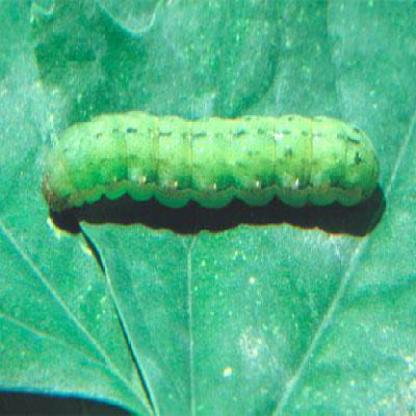armyworm: (38, 112, 385, 221)
